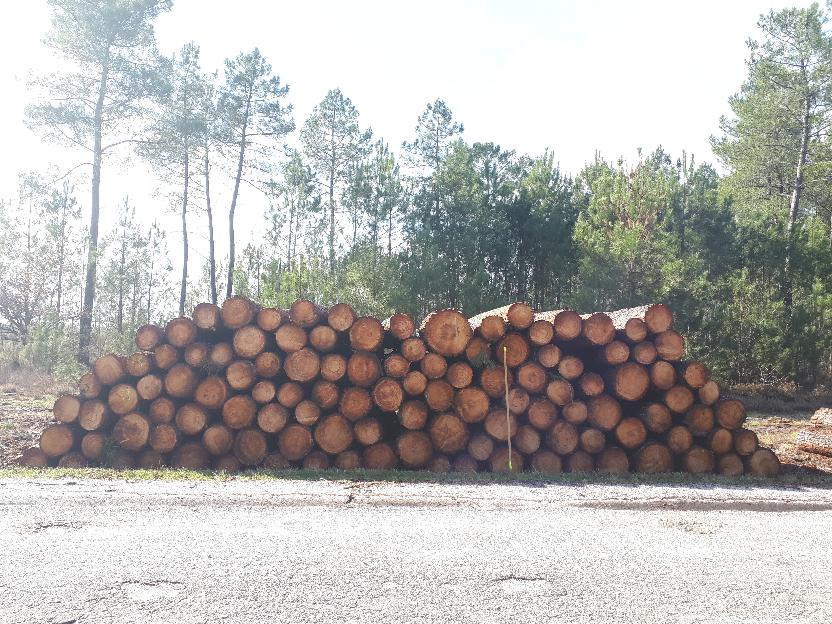etalon: (502, 344, 516, 472)
object: (422, 308, 473, 356), (429, 412, 469, 452), (314, 413, 354, 453), (612, 364, 650, 401), (161, 363, 199, 399), (454, 386, 490, 422), (112, 412, 148, 448), (586, 393, 620, 431), (234, 428, 268, 466), (282, 348, 320, 381), (195, 372, 228, 410), (495, 331, 529, 367), (278, 424, 312, 460), (38, 424, 74, 457), (398, 432, 432, 466), (348, 350, 380, 386), (340, 385, 372, 421), (233, 324, 266, 358), (221, 394, 254, 428), (639, 401, 672, 434), (485, 407, 517, 441), (614, 416, 646, 450), (372, 375, 402, 411), (546, 418, 576, 454), (223, 358, 256, 390), (638, 443, 674, 472), (582, 313, 614, 345), (349, 316, 381, 348), (162, 316, 196, 346), (686, 404, 716, 438), (489, 445, 525, 473), (221, 296, 252, 328), (482, 363, 512, 396), (288, 296, 318, 328), (526, 398, 556, 430), (716, 398, 746, 430), (656, 326, 684, 360), (170, 444, 209, 468), (107, 382, 138, 412), (256, 403, 288, 432), (518, 361, 546, 394), (326, 301, 356, 331), (310, 380, 340, 410), (94, 353, 122, 385), (661, 386, 693, 414), (52, 392, 80, 424), (78, 398, 106, 430), (578, 422, 606, 454), (364, 442, 398, 468), (308, 323, 338, 352), (424, 380, 453, 410), (204, 425, 233, 455), (554, 310, 582, 341), (176, 406, 206, 434), (598, 444, 628, 472), (274, 323, 306, 349), (748, 448, 780, 474), (506, 303, 534, 331), (420, 352, 448, 380), (400, 401, 428, 429), (651, 360, 677, 390), (685, 448, 717, 472), (192, 302, 219, 330), (479, 313, 506, 341), (353, 417, 380, 445), (80, 430, 108, 457), (390, 311, 416, 339), (381, 352, 409, 378), (448, 360, 474, 388), (683, 361, 709, 389), (148, 396, 174, 424), (668, 425, 694, 453), (515, 425, 541, 453), (209, 338, 233, 368), (19, 447, 51, 469), (530, 451, 562, 473), (547, 379, 575, 404), (644, 305, 670, 331), (134, 324, 160, 350), (320, 354, 346, 380), (558, 354, 584, 380), (468, 434, 494, 460), (256, 352, 283, 377), (465, 338, 489, 366), (603, 341, 631, 365), (578, 371, 606, 395), (505, 384, 529, 412), (150, 424, 174, 452), (184, 341, 208, 368), (528, 320, 554, 344), (536, 342, 562, 366), (138, 374, 162, 400), (562, 399, 588, 423), (567, 449, 595, 471), (152, 343, 176, 368), (402, 370, 426, 395), (78, 372, 102, 397), (278, 381, 302, 406), (717, 452, 743, 475), (736, 430, 758, 457), (335, 450, 363, 471), (256, 306, 280, 330), (125, 352, 149, 376), (697, 380, 721, 404), (402, 336, 424, 362), (294, 399, 318, 422), (107, 448, 136, 467), (58, 452, 88, 470), (625, 318, 649, 340), (632, 340, 656, 362), (252, 380, 274, 404), (712, 428, 734, 452), (136, 451, 166, 468), (209, 455, 241, 470), (302, 452, 328, 470), (450, 457, 478, 473), (427, 454, 449, 472), (262, 454, 288, 468)
pile: (17, 292, 785, 476)
